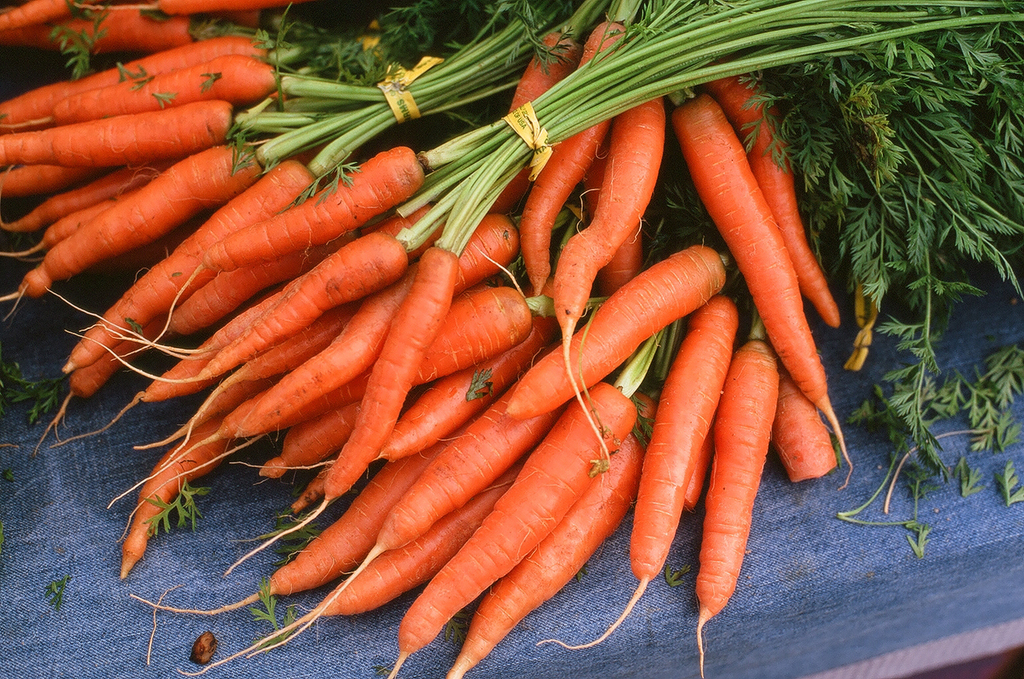Carrot: (0, 0, 1024, 679)
